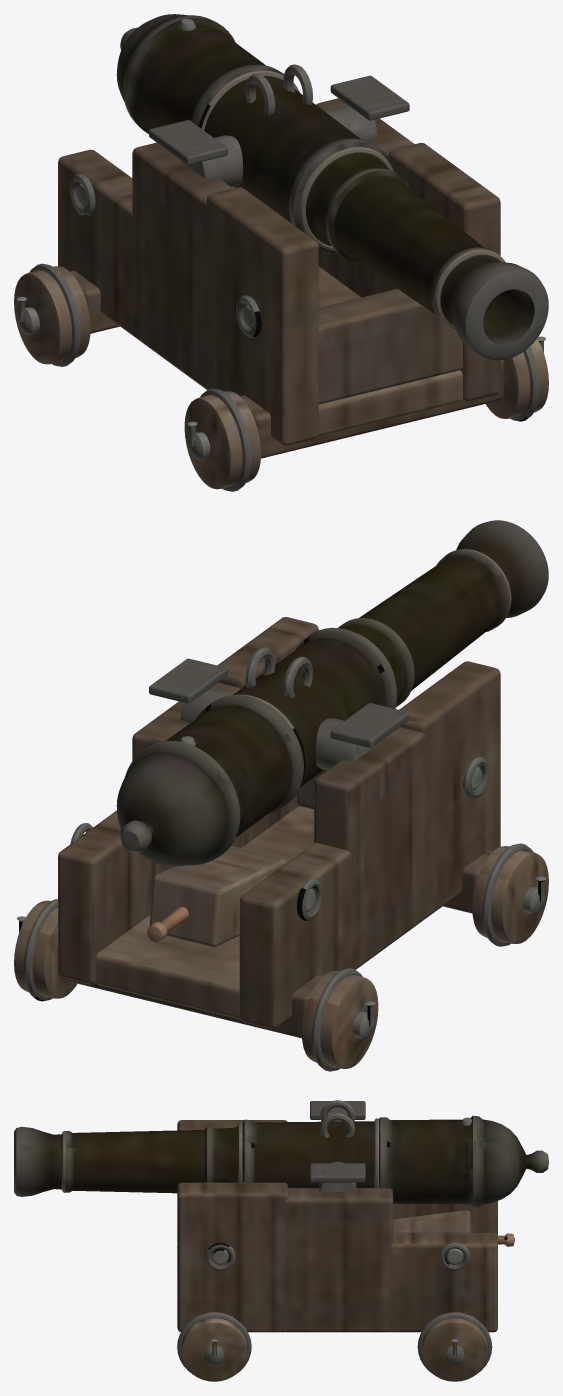
Rendered from cannon.glb.
3 views of the same model, one above another, from view 1: azimuth 30°, elevation 25°; view 2: azimuth 150°, elevation 25°; view 3: azimuth 270°, elevation 25° (orthographic). The views are drawn at different scales.
Visible parts, largest first — view 1: cannon_body, barrel; view 2: cannon_body, barrel; view 3: cannon_body, barrel.
Part boxes in pixels (x1,y1,x2,y2): cannon_body: (14, 75, 548, 491); barrel: (116, 14, 548, 360); cannon_body: (14, 617, 548, 1071); barrel: (116, 520, 548, 866); cannon_body: (177, 1101, 514, 1381); barrel: (14, 1100, 548, 1207).
Size of the model in its own units: 0.944 by 0.803 by 1.74.
Materials: 1 (1 with a texture image).
